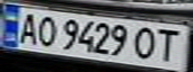2: (90, 19, 112, 56)
4: (75, 19, 96, 54)
9: (109, 21, 133, 57), (57, 17, 81, 52)
A: (12, 10, 42, 45)
O: (130, 25, 160, 61), (33, 14, 60, 47)
T: (151, 26, 187, 63)
